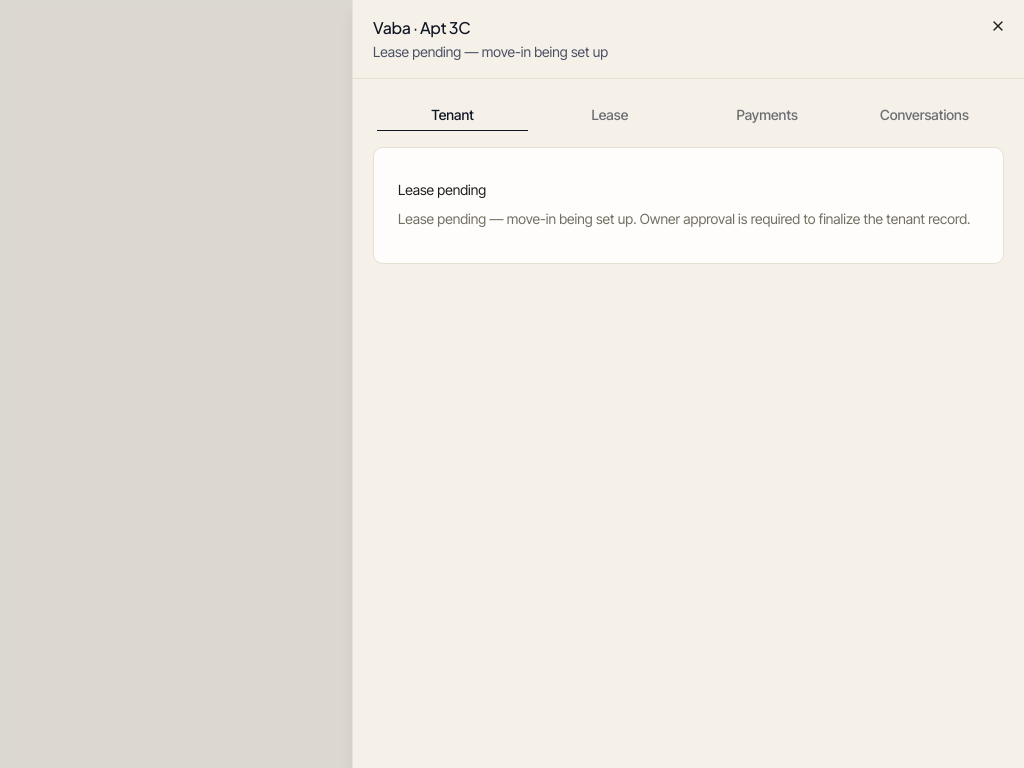
Scenario: UnitDetailDrawer › open with pending-move-in unit › frames a pending VA unit as owner approval, not an executable setup task
Expected: the element with test id "unit-detail-drawer-tenant-empty" shows "Owner approval is required", [398,210,970,227]
Click the tab with test id "unit-detail-tab-lease": click(610, 115) [533,102,687,128]
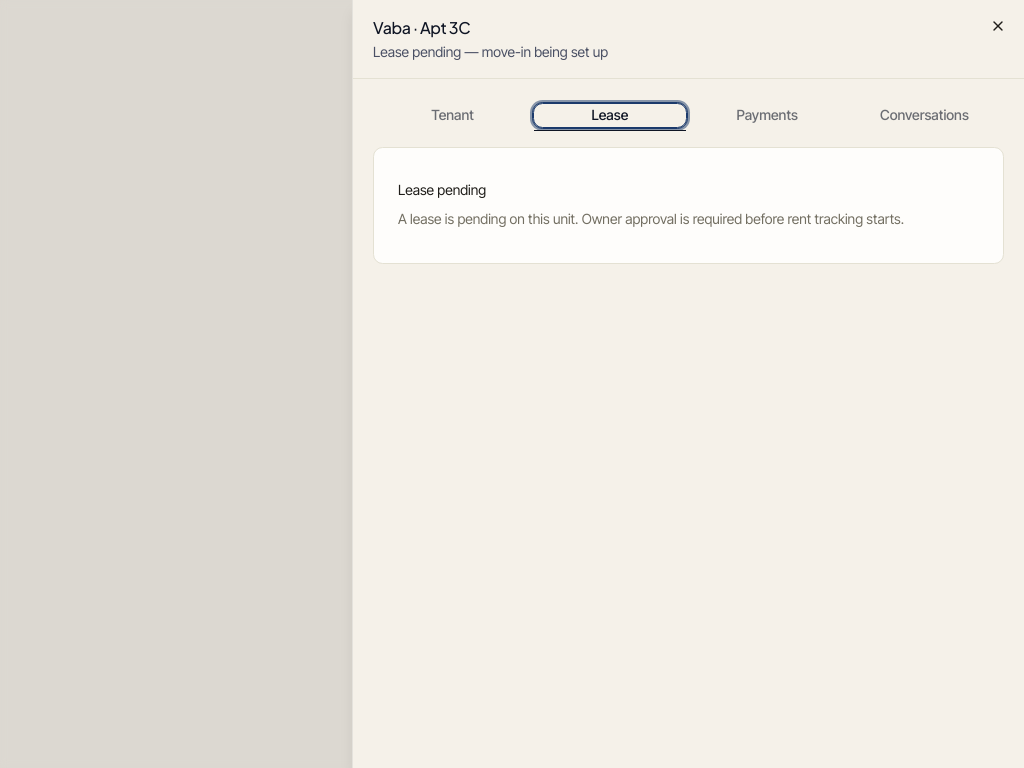
Result: the element with test id "unit-detail-drawer-lease-empty" shows "Owner approval is required" at [398,210,904,227]
